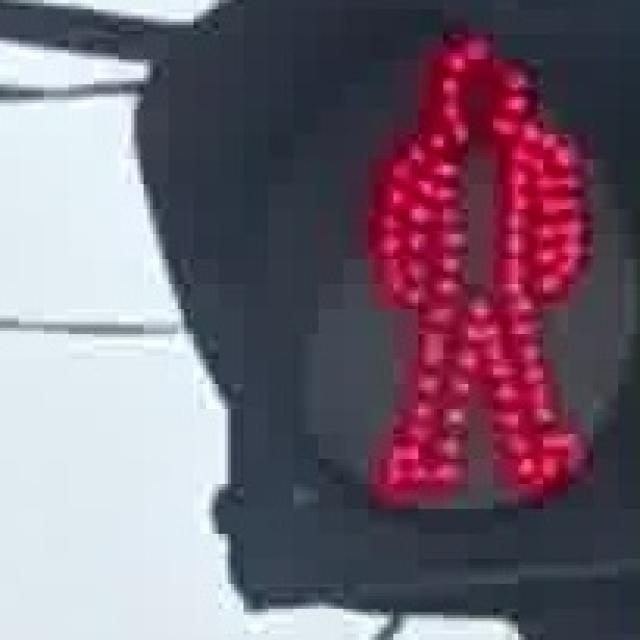red-light: (323, 17, 604, 520)
